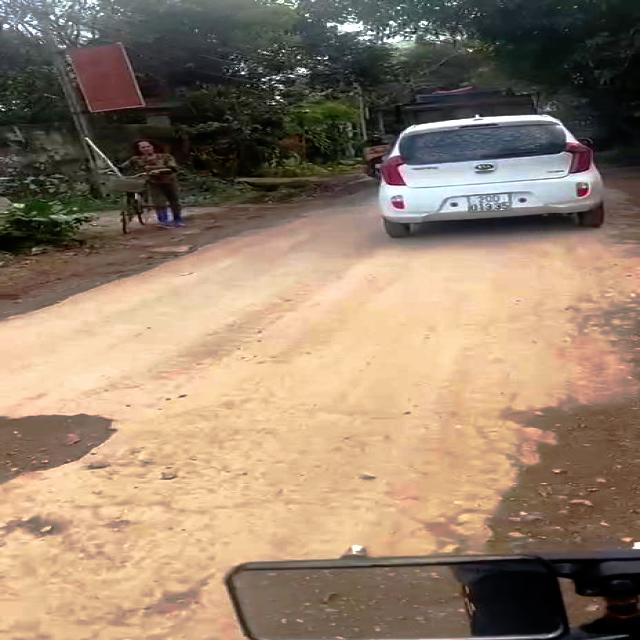pothole: (471, 390, 640, 560), (0, 406, 127, 491)
